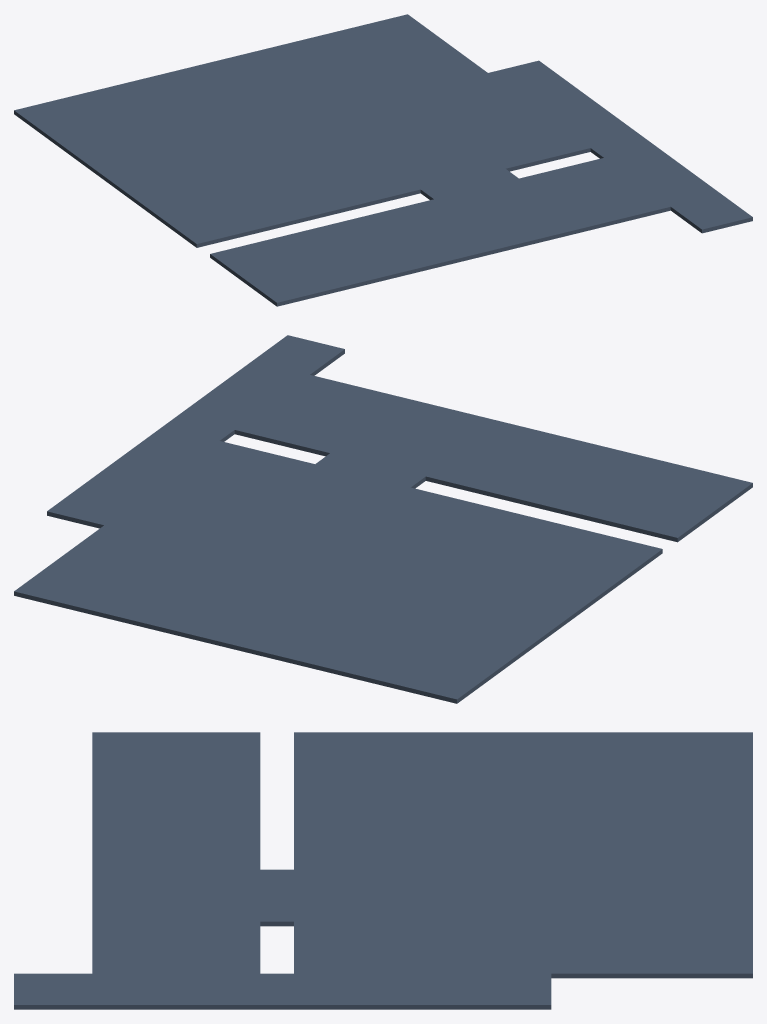
Rendered from floor_geometry.obj.
3 renders of one model, top to bottom at view 1: azimuth 30°, elevation 25°; view 2: azimuth 150°, elevation 25°; view 3: azimuth 270°, elevation 25°, orthographic. The views are drawn at different scales.
Parts seen in each view (by area): view 1: Floor_004_f_86f3e2b46a, Floor_030_f_b048ec1549, Floor_019_f_0653197ae6, Floor_021_f_8c73c03516, Floor_010_f_01cb60c800, Floor_029_f_1af808d794, Floor_008_f_49673a91a6, Floor_001_f_616bae57ee, Floor_027_f_9a80c063b1, Floor_016_f_a4962b3237, Floor_013_f_95e96937c4, Floor_025_f_b5efcc5751 (+1 smaller); view 2: Floor_004_f_86f3e2b46a, Floor_019_f_0653197ae6, Floor_030_f_b048ec1549, Floor_021_f_8c73c03516, Floor_029_f_1af808d794, Floor_008_f_49673a91a6, Floor_001_f_616bae57ee, Floor_010_f_01cb60c800, Floor_016_f_a4962b3237, Floor_027_f_9a80c063b1, Floor_013_f_95e96937c4, Floor_025_f_b5efcc5751 (+1 smaller); view 3: Floor_004_f_86f3e2b46a, Floor_030_f_b048ec1549, Floor_019_f_0653197ae6, Floor_021_f_8c73c03516, Floor_029_f_1af808d794, Floor_008_f_49673a91a6, Floor_027_f_9a80c063b1, Floor_010_f_01cb60c800, Floor_001_f_616bae57ee, Floor_016_f_a4962b3237, Floor_013_f_95e96937c4, Floor_025_f_b5efcc5751 (+1 smaller).
Boxes of the visible parts, left/top/right/bottom form: Floor_004_f_86f3e2b46a: left=63, top=79, right=471, bottom=247; Floor_030_f_b048ec1549: left=488, top=60, right=752, bottom=233; Floor_019_f_0653197ae6: left=398, top=158, right=656, bottom=246; Floor_021_f_8c73c03516: left=233, top=14, right=456, bottom=92; Floor_010_f_01cb60c800: left=263, top=197, right=670, bottom=306; Floor_029_f_1af808d794: left=422, top=107, right=590, bottom=175; Floor_008_f_49673a91a6: left=210, top=229, right=364, bottom=296; Floor_001_f_616bae57ee: left=14, top=84, right=167, bottom=149; Floor_027_f_9a80c063b1: left=375, top=73, right=534, bottom=134; Floor_016_f_a4962b3237: left=125, top=58, right=275, bottom=118; Floor_013_f_95e96937c4: left=317, top=209, right=445, bottom=266; Floor_025_f_b5efcc5751: left=344, top=50, right=487, bottom=100; Floor_004_f_86f3e2b46a: left=203, top=473, right=662, bottom=662; Floor_019_f_0653197ae6: left=234, top=386, right=525, bottom=490; Floor_030_f_b048ec1549: left=47, top=335, right=344, bottom=528; Floor_021_f_8c73c03516: left=14, top=551, right=265, bottom=643; Floor_029_f_1af808d794: left=157, top=441, right=345, bottom=517; Floor_008_f_49673a91a6: left=563, top=466, right=737, bottom=542; Floor_001_f_616bae57ee: left=338, top=630, right=512, bottom=703; Floor_010_f_01cb60c800: left=295, top=375, right=752, bottom=497; Floor_016_f_a4962b3237: left=217, top=600, right=386, bottom=673; Floor_027_f_9a80c063b1: left=105, top=487, right=283, bottom=556; Floor_013_f_95e96937c4: left=472, top=444, right=616, bottom=512; Floor_025_f_b5efcc5751: left=69, top=525, right=230, bottom=581; Floor_004_f_86f3e2b46a: left=294, top=732, right=629, bottom=900; Floor_030_f_b048ec1549: left=14, top=973, right=551, bottom=1009; Floor_019_f_0653197ae6: left=126, top=847, right=260, bottom=973; Floor_021_f_8c73c03516: left=630, top=866, right=752, bottom=978; Floor_029_f_1af808d794: left=294, top=904, right=433, bottom=973; Floor_008_f_49673a91a6: left=126, top=732, right=260, bottom=794; Floor_027_f_9a80c063b1: left=434, top=904, right=551, bottom=973; Floor_010_f_01cb60c800: left=92, top=732, right=125, bottom=973; Floor_001_f_616bae57ee: left=630, top=732, right=752, bottom=796; Floor_016_f_a4962b3237: left=630, top=800, right=752, bottom=862; Floor_013_f_95e96937c4: left=126, top=798, right=260, bottom=843; Floor_025_f_b5efcc5751: left=551, top=904, right=629, bottom=978.
Size of the model in its own units: 24 by 0.2 by 27.5.
